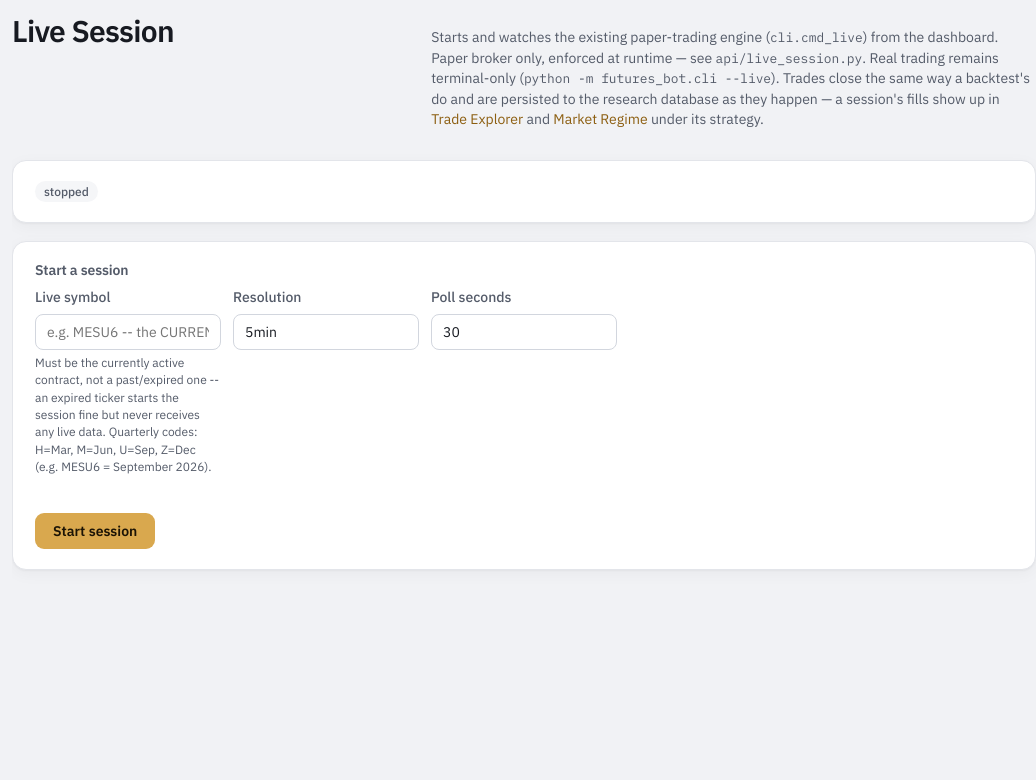
it: Live › shows an error if starting fails
This screenshot has width=1036, height=780.
Check: the button "Start session" is shown, box [35, 514, 155, 550]
Type "MESU6" into the field labelled "Live symbol" at {"x": 128, "y": 332}, box [35, 314, 221, 350]
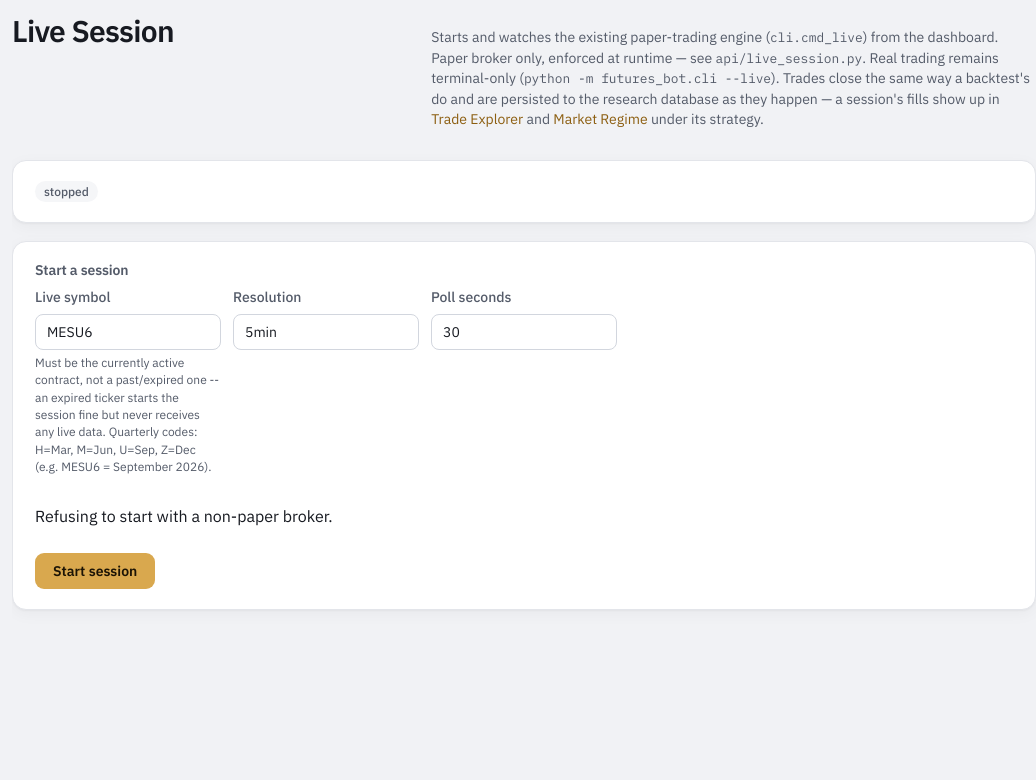
Check: the message reads "Refusing to start with a non-paper broker.", box [35, 506, 333, 526]
